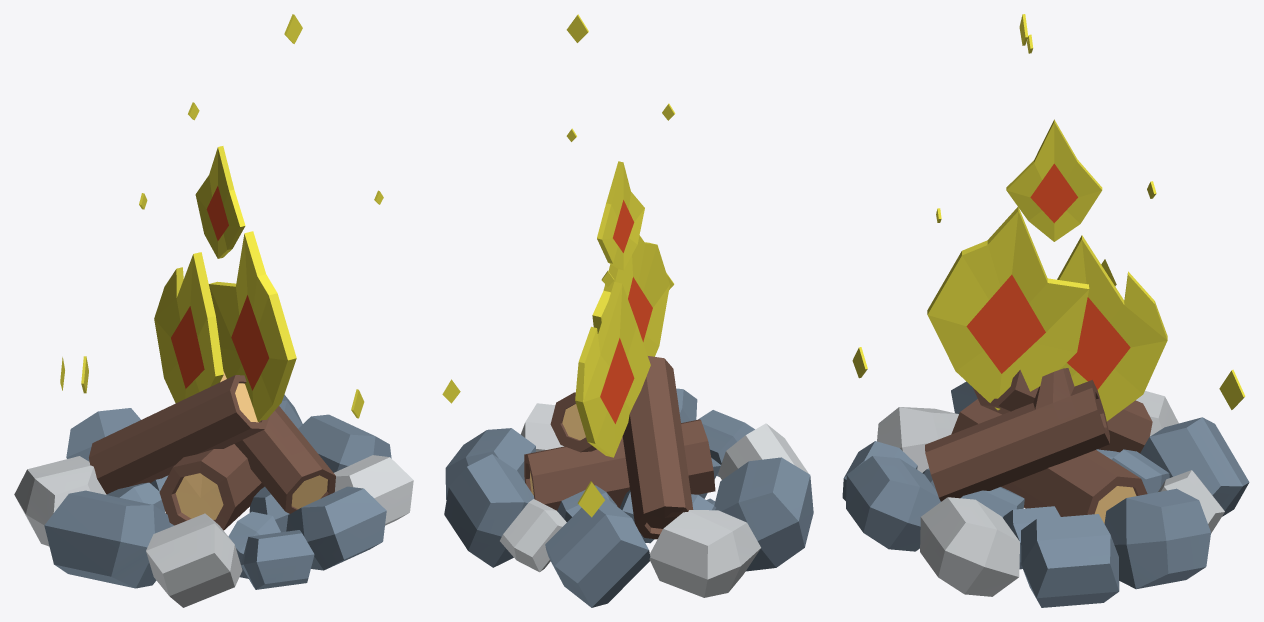
Rendered from campfire.glb.
3 views of the same model, side by side, from view 1: azimuth 30°, elevation 25°; view 2: azimuth 150°, elevation 25°; view 3: azimuth 270°, elevation 25° (orthographic). The views are drawn at different scales.
Visible parts, largest first — view 1: campfire_01_Plane.003; view 2: campfire_01_Plane.003; view 3: campfire_01_Plane.003.
Part boxes in pixels (x1=…): campfire_01_Plane.003: x1=14, y1=14, x2=413, y2=607; campfire_01_Plane.003: x1=442, y1=14, x2=813, y2=607; campfire_01_Plane.003: x1=842, y1=14, x2=1249, y2=607.
Bounding box in the file's own units: 5.44 × 7.87 × 5.16.
1 material, 1 textured.
